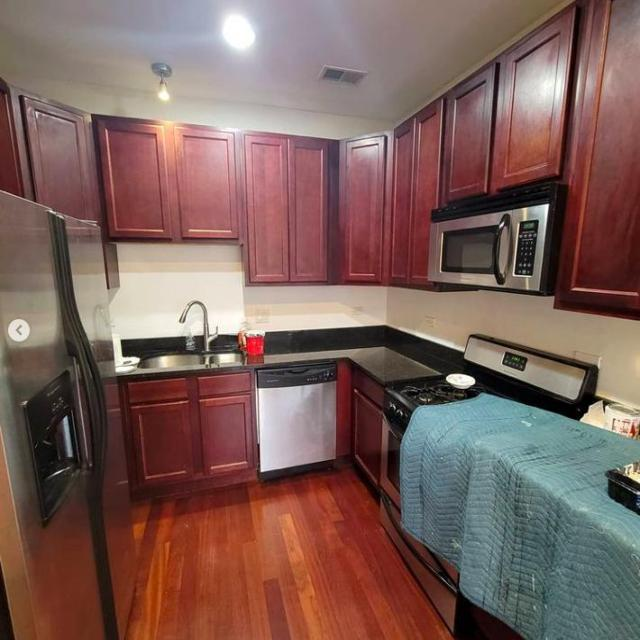dishwasher: (256, 361, 334, 470)
